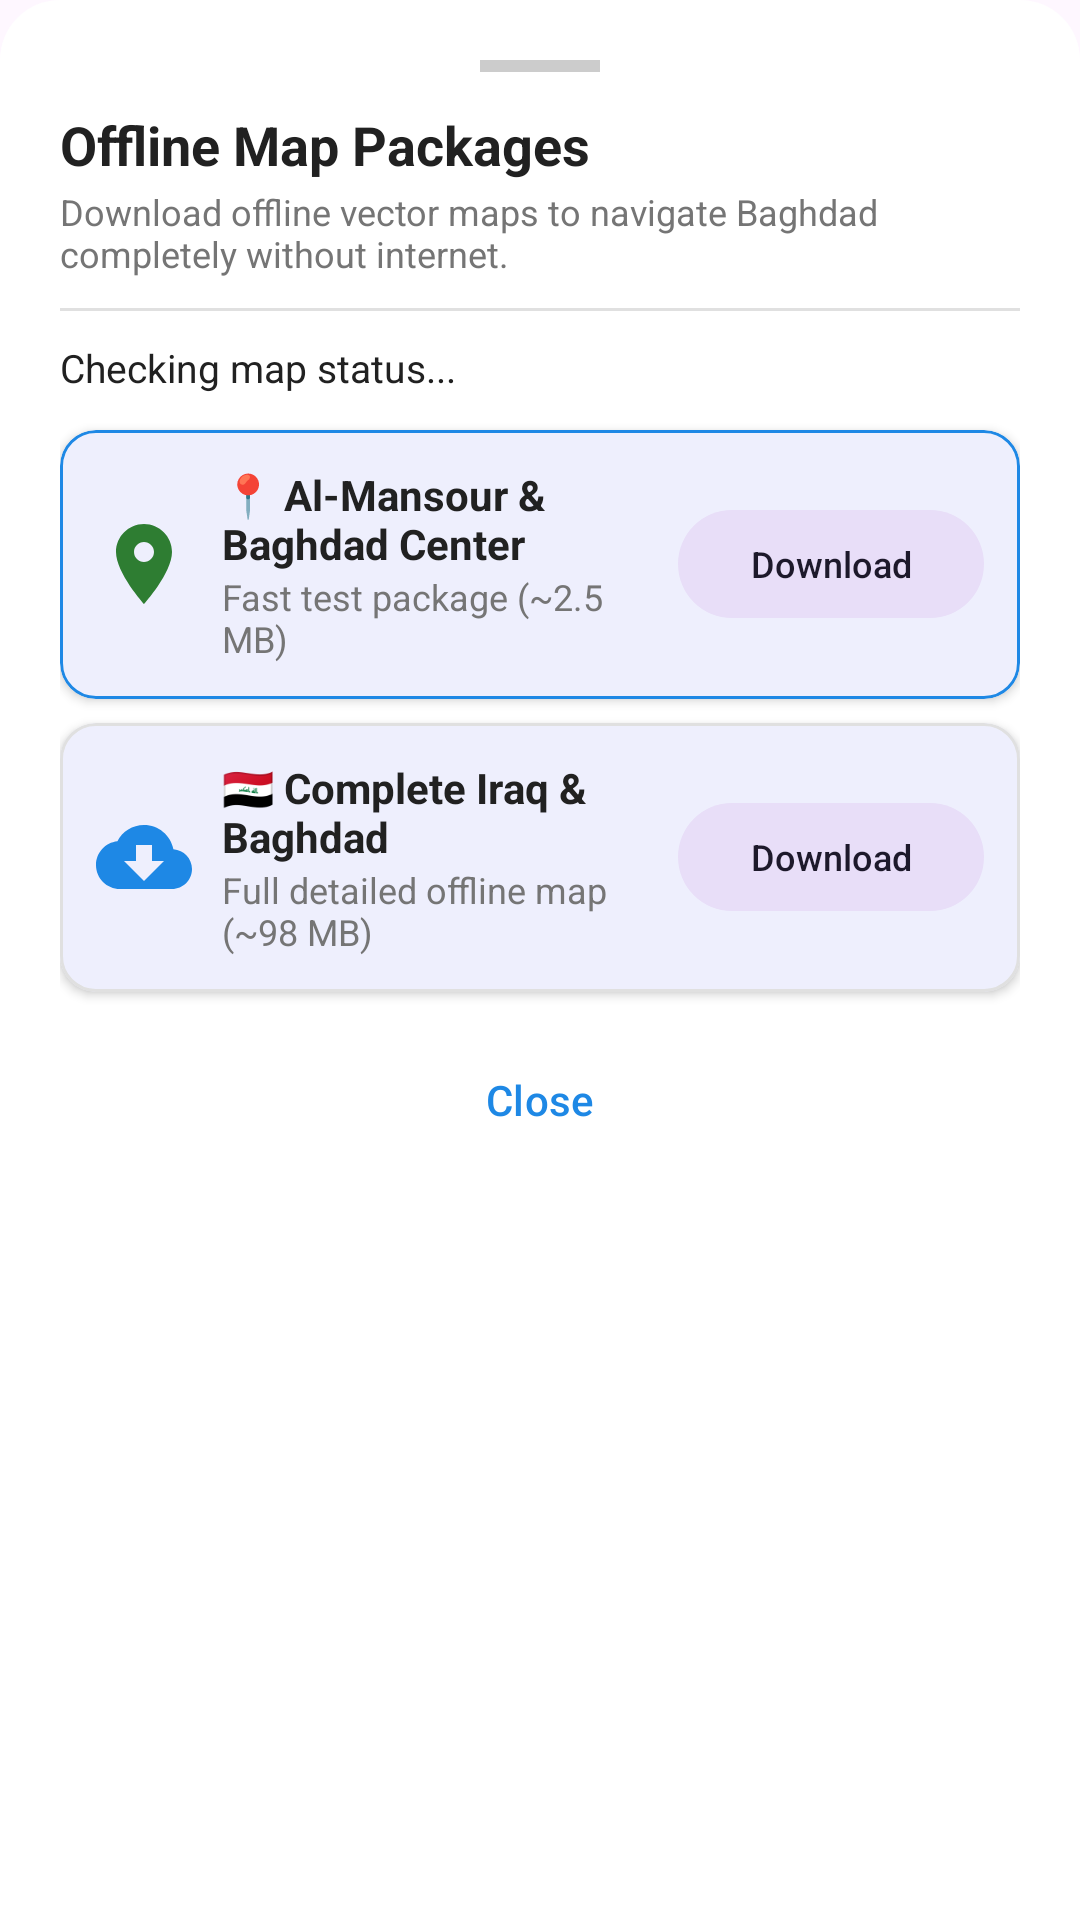

Where to tap for icons on this 1080×1920 app screen, as (x,y):
download: (144,857)
start pin: (144,564)
